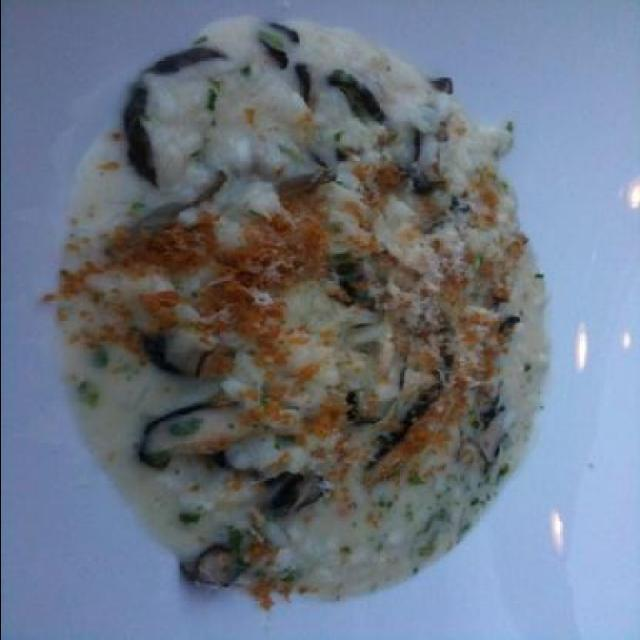Risotto: (76, 34, 536, 574)
